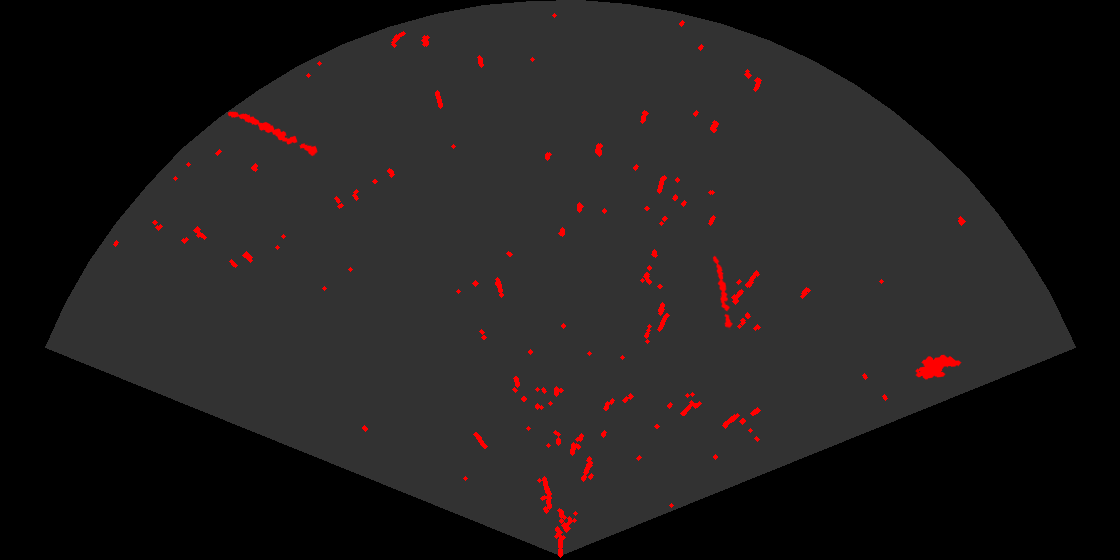AUV: (914, 353, 963, 381)
chain: (226, 110, 319, 158), (711, 254, 735, 330)
